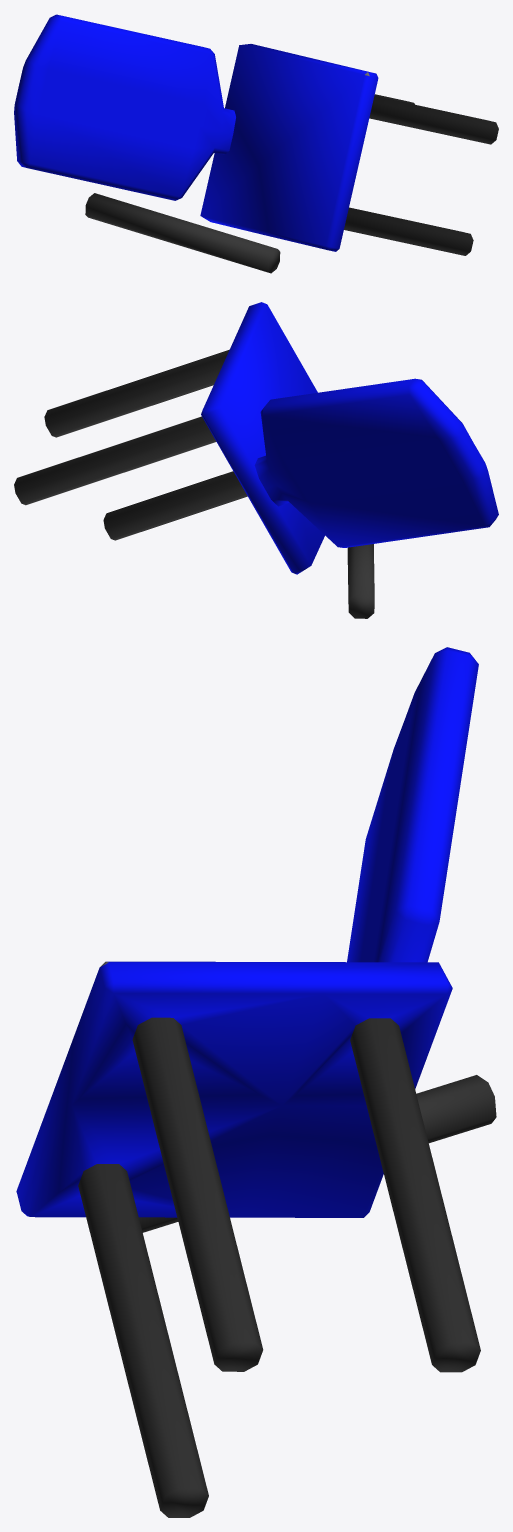
The model's file is brokenChair.fbx.
The picture shows the model from 3 angles, top to bottom: view 1: azimuth 30°, elevation 25°; view 2: azimuth 150°, elevation 25°; view 3: azimuth 270°, elevation 25°; orthographic projection. The views are drawn at different scales.
Visible parts, largest first — view 1: polySurface1, back, polySurface3; view 2: back, polySurface1, polySurface3; view 3: polySurface1, back, polySurface3.
Boxes of the visible parts, x1,y1,x2,y2 form: polySurface1: [200, 44, 498, 255]; back: [14, 14, 235, 200]; polySurface3: [85, 193, 280, 273]; back: [254, 378, 498, 547]; polySurface1: [14, 302, 324, 574]; polySurface3: [347, 544, 374, 618]; polySurface1: [16, 961, 480, 1517]; back: [347, 647, 478, 962]; polySurface3: [139, 1075, 496, 1232].
Size of the model in its own units: 2.7 by 1.6 by 1.28.
